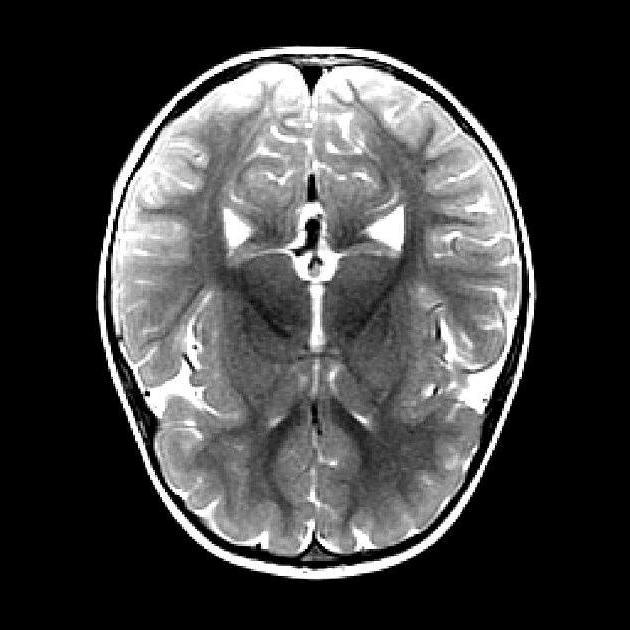Normal_Brain: (48, 8, 619, 630)
